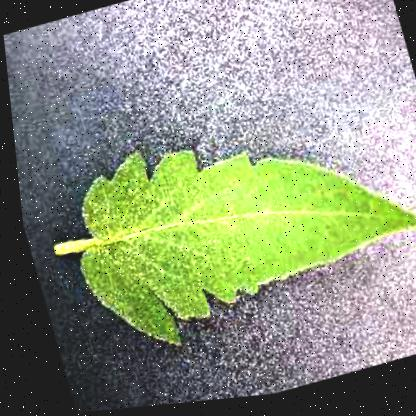Healthy: (18, 81, 415, 377)
